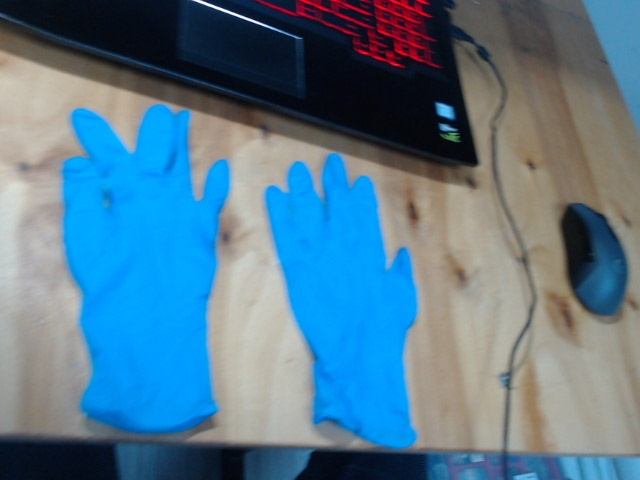medical_glove: (63, 103, 230, 427), (264, 152, 417, 449)
